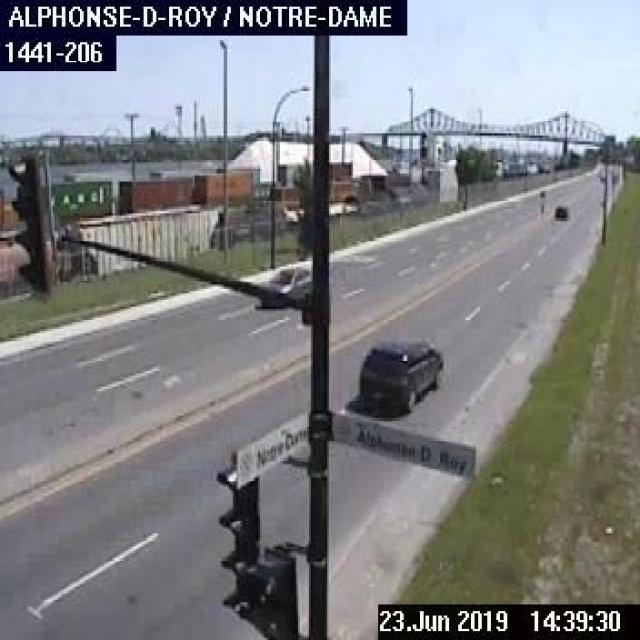vehicle: (356, 335, 443, 411), (258, 262, 312, 311), (551, 202, 567, 218)
